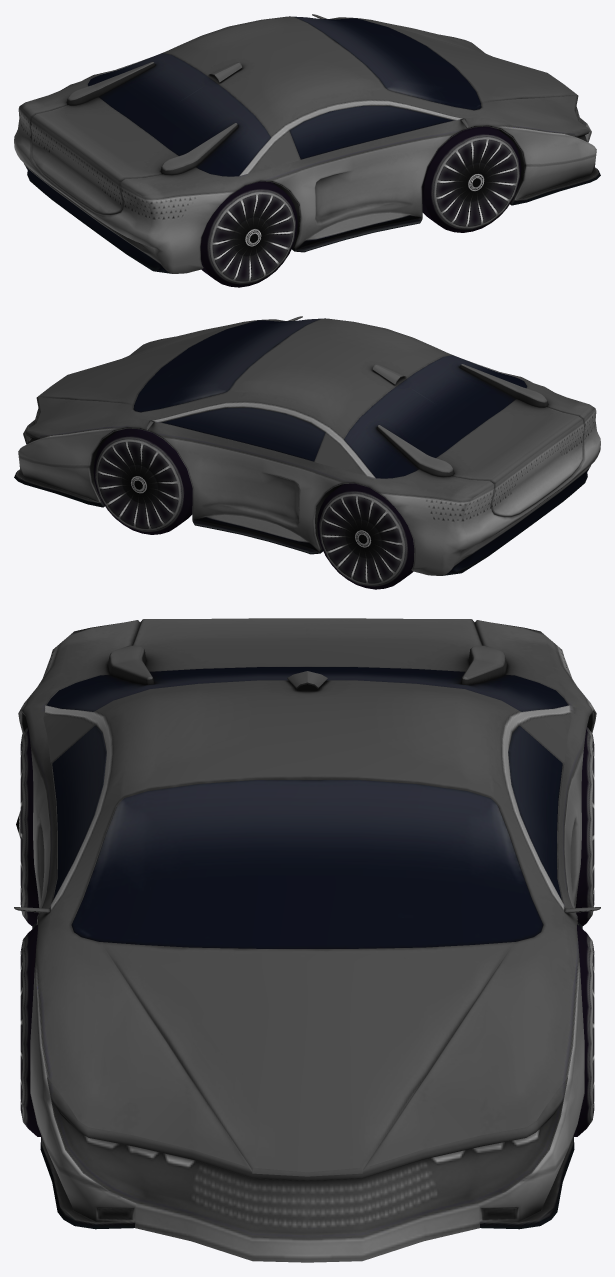
Rendered from AGATHA_GREY.glb.
3 views of the same model, one above another, from view 1: azimuth 30°, elevation 25°; view 2: azimuth 150°, elevation 25°; view 3: azimuth 270°, elevation 25° (orthographic). The views are drawn at different scales.
Parts seen in each view (by area): view 1: car_body, wheel_fr, wheel_rr; view 2: car_body, wheel_fl, wheel_rl; view 3: car_body, wheel_rr, wheel_rl, wheel_fr, wheel_fl.
Boxes of the visible parts, <box> form: car_body: <box>14,14,600,273</box>; wheel_fr: <box>422,126,521,232</box>; wheel_rr: <box>200,181,297,287</box>; car_body: <box>14,316,600,575</box>; wheel_fl: <box>93,428,192,534</box>; wheel_rl: <box>317,483,414,589</box>; car_body: <box>14,618,600,1262</box>; wheel_rr: <box>16,726,39,925</box>; wheel_rl: <box>575,726,594,925</box>; wheel_fr: <box>20,924,41,1136</box>; wheel_fl: <box>573,924,594,1136</box>.
Bounding box in the file's own units: 0.3658 × 0.1069 × 0.1924.
2 materials, 2 textured.
